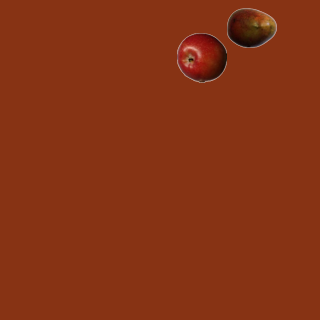Apple Braeburn: (176, 32, 226, 82)
Mango Red: (226, 2, 276, 52)
